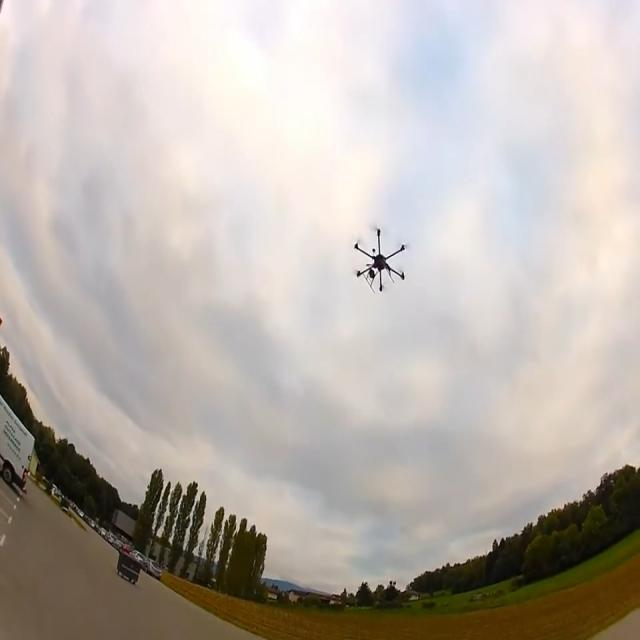drone: (353, 228, 407, 292)
